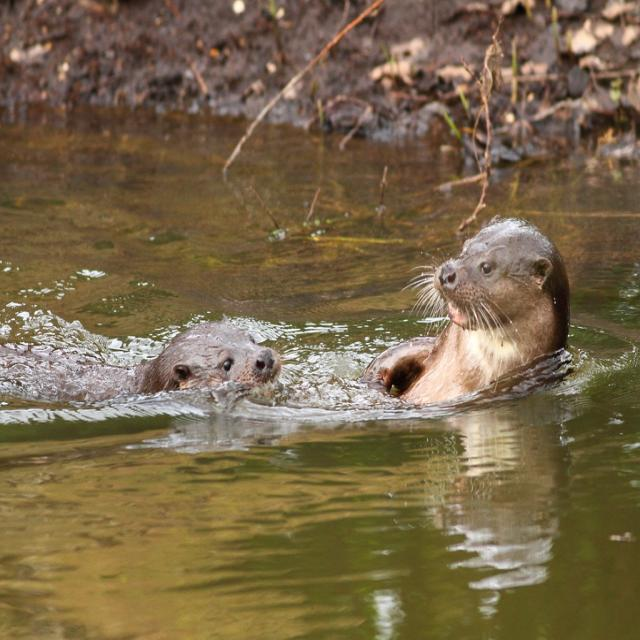otter: (371, 219, 573, 404), (140, 321, 287, 392)
